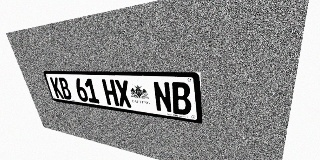1: (83, 78, 100, 104)
6: (73, 78, 89, 102)
B: (170, 82, 192, 116), (57, 77, 73, 100)
H: (101, 79, 119, 106)
K: (49, 77, 64, 99)
N: (152, 81, 173, 113)
X: (114, 80, 132, 108)
